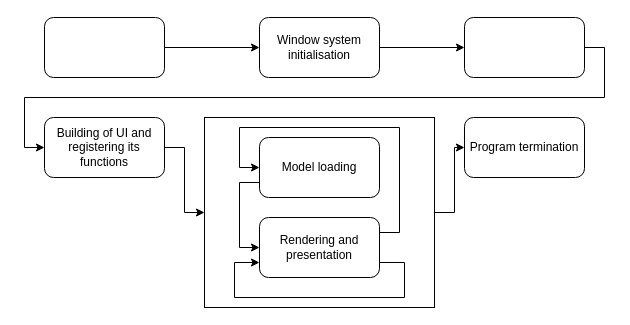
This 630x325 diagram has some shape labels left out. The shapes that lost their labels are listed below. From the top down, each one's centre as x and y in pixels, then its label:
(104,47): Configuration load
(524,47): Vulkan initialisation
